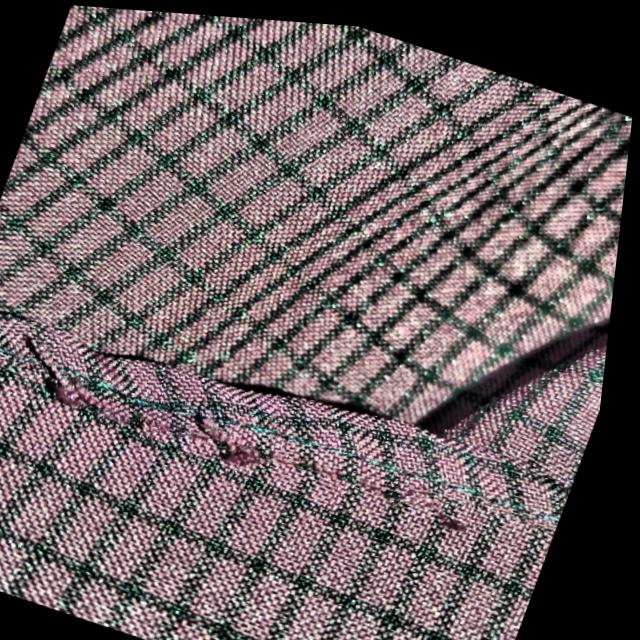Stitch: (170, 392, 347, 502), (1, 344, 167, 436)
